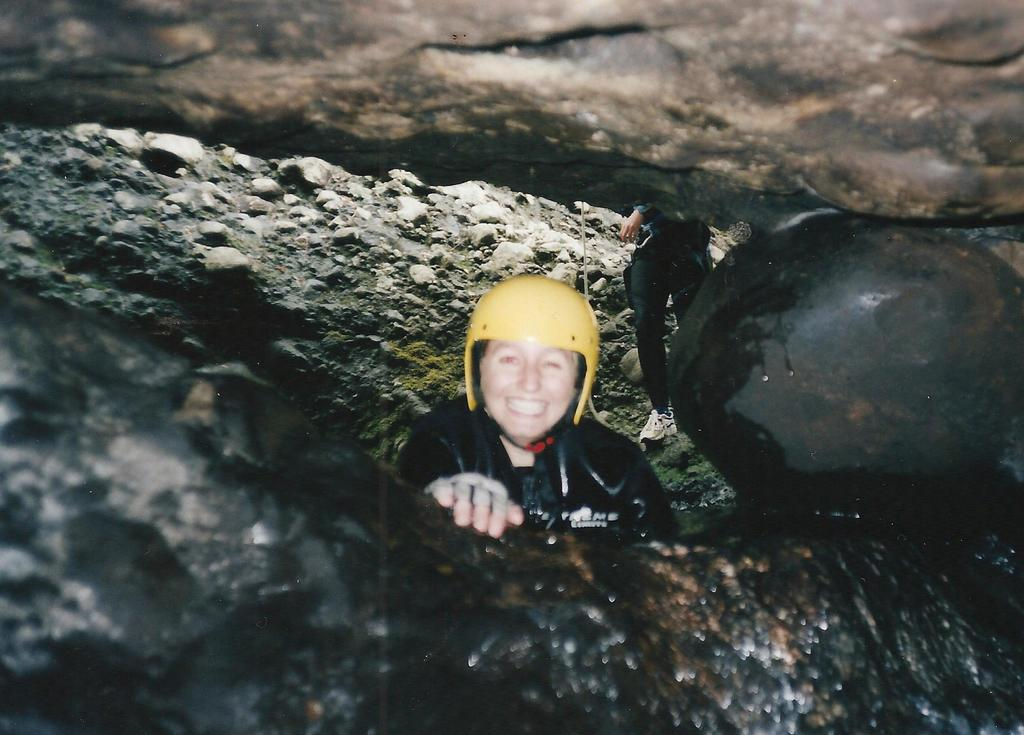Person: (398, 274, 681, 538), (619, 201, 713, 443)
